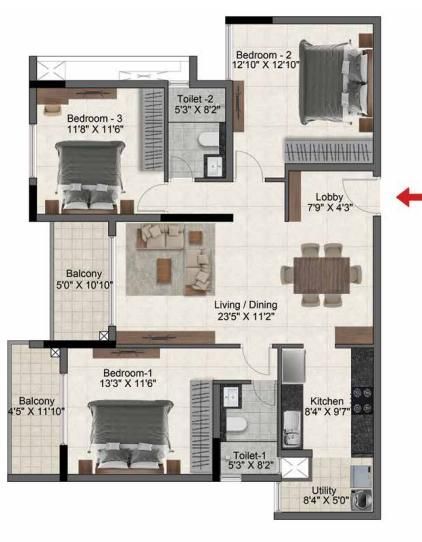Balcony: (49, 221, 115, 341), (12, 346, 63, 479)
Bed: (298, 38, 376, 125), (90, 397, 170, 474), (55, 144, 120, 211)
Bedroom: (228, 20, 378, 166), (65, 342, 219, 478), (31, 86, 166, 220)
Dining Room: (246, 225, 373, 345)
Dining table: (279, 240, 363, 308)
Kitchen: (280, 348, 380, 464)
Living Room: (114, 217, 245, 342)
Sofa: (135, 224, 188, 254), (188, 248, 215, 287)
Wardrobe: (284, 138, 377, 167), (135, 86, 167, 170), (190, 382, 217, 478)
commode: (225, 417, 246, 430), (199, 134, 219, 146)
door: (337, 175, 379, 218), (228, 149, 265, 179), (243, 345, 273, 377), (137, 189, 168, 217), (169, 158, 193, 181)
fridge: (282, 349, 305, 384)
kitchen-slab: (350, 350, 377, 459), (283, 386, 304, 447)
lobby: (286, 170, 381, 224)
sink: (283, 411, 302, 447), (223, 385, 239, 407), (207, 157, 224, 177)
stove: (350, 387, 373, 413)
toilet: (218, 347, 281, 479), (168, 85, 231, 180)
tv: (37, 86, 118, 104), (117, 328, 214, 342), (94, 344, 162, 359), (230, 78, 248, 133)
utility: (276, 458, 377, 517)
washing-machine: (350, 490, 372, 511)
